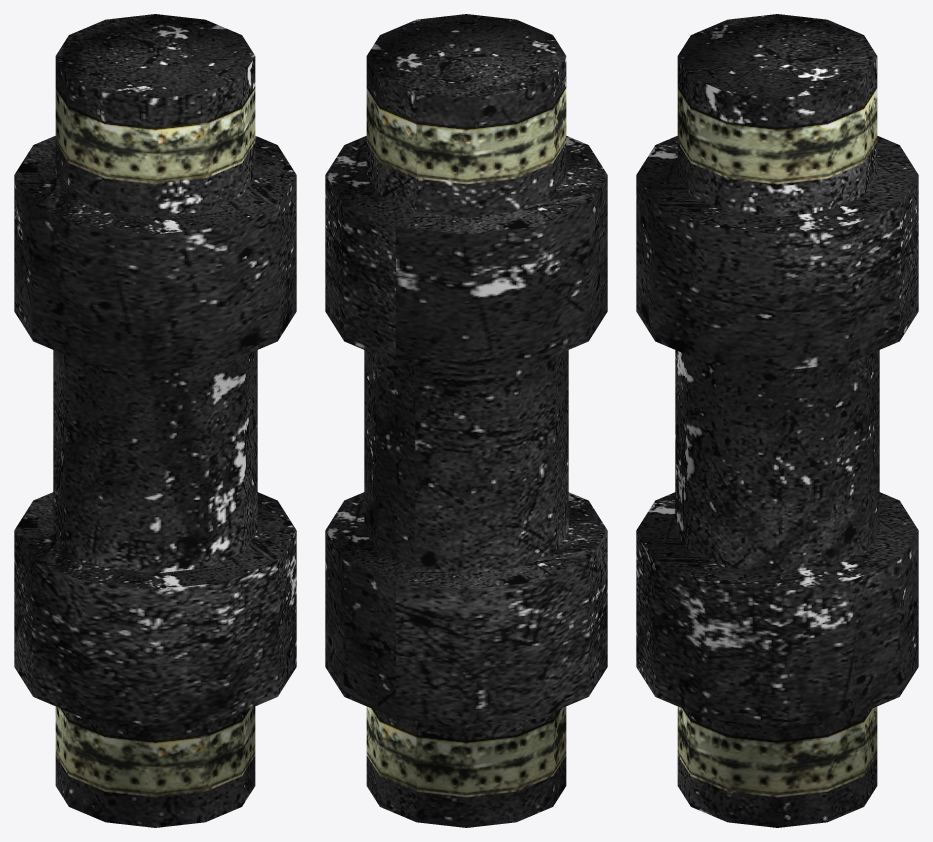
Rendered from Pivot_2.fbx.
3 renders of one model, left to right at view 1: azimuth 30°, elevation 25°; view 2: azimuth 150°, elevation 25°; view 3: azimuth 270°, elevation 25°, orthographic.
Visible parts, largest first — view 1: Pivot_2_Model; view 2: Pivot_2_Model; view 3: Pivot_2_Model.
Boxes of the visible parts, left/top/right/bottom form: Pivot_2_Model: left=14, top=14, right=296, bottom=827; Pivot_2_Model: left=325, top=14, right=607, bottom=827; Pivot_2_Model: left=636, top=14, right=918, bottom=827.
Size of the model in its own units: 0.2483 by 0.708 by 0.2483.
